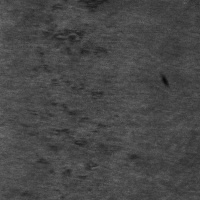rolled-in_scale: (25, 71, 116, 179), (37, 24, 117, 66)
